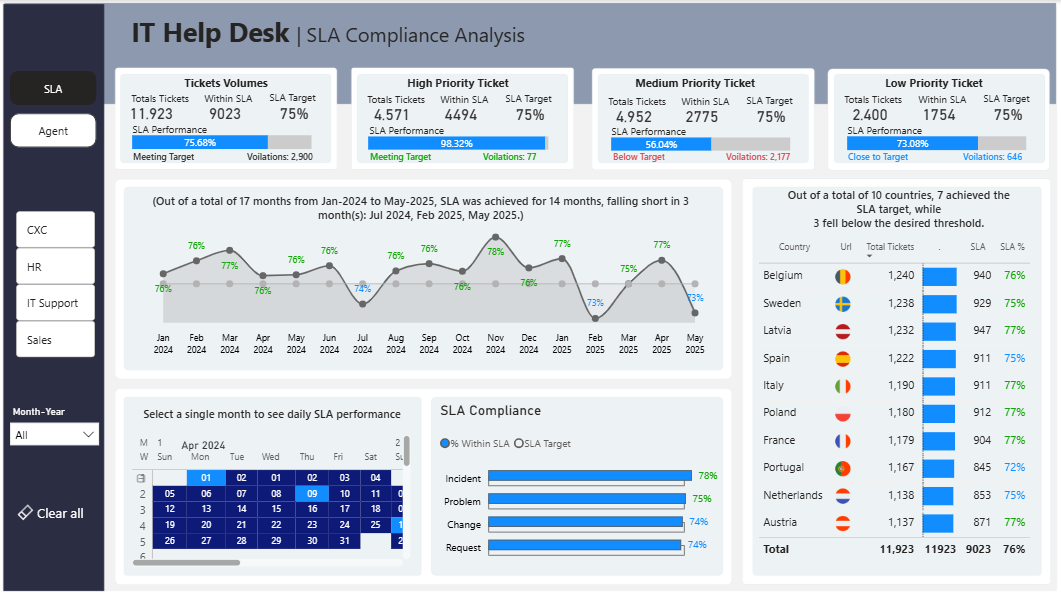

What the dashboard file says about the page in this screenshot:
{"tool":"powerbi","page":{"name":"SLA","canvas":[1280,720],"ordinal":0},"visuals":[{"type":"hundredPercentStackedBarChart","fields":{"Y":["All Measures.% Within SLA","All Measures.% outside SLA"]},"box":[731.6,131.1,225.6,77.5],"z":0},{"type":"hundredPercentStackedBarChart","fields":{"Y":["All Measures.% Within SLA","All Measures.% outside SLA"]},"box":[439.8,129.7,227,77.5],"z":1000},{"type":"hundredPercentStackedBarChart","fields":{"Y":["All Measures.% Within SLA","All Measures.% outside SLA"]},"box":[155.3,127.7,226,80.2],"z":2000},{"type":"advanceCardE03760C5AB684758B56AA29F9E6C257B","fields":{"mainMeasure":["All Measures.Total Tickets"]},"box":[147.3,121.6,72.9,25.7],"z":3000},{"type":"advanceCardE03760C5AB684758B56AA29F9E6C257B","fields":{"mainMeasure":["All Measures.Tickets Within SLA"]},"box":[236.4,121.5,72,26],"z":4000},{"type":"advanceCardE03760C5AB684758B56AA29F9E6C257B","fields":{"mainMeasure":["All Measures.SLA Target"]},"box":[319.3,121.5,72,26],"z":5000},{"type":"textbox","box":[155.5,140.4,121.1,27.5],"z":6000},{"type":"textbox","box":[154.2,103.2,90.8,27.5],"z":7000},{"type":"textbox","box":[242.2,103.2,78.5,28.9],"z":8000},{"type":"textbox","box":[320.7,102.5,74.3,28.9],"z":9000},{"type":"textbox","box":[217.5,85.3,125.2,27.5],"z":10000},{"type":"advanceCardE03760C5AB684758B56AA29F9E6C257B","fields":{"mainMeasure":["All Measures.Total Tickets"]},"box":[436.9,122.6,72,26],"z":11000},{"type":"advanceCardE03760C5AB684758B56AA29F9E6C257B","fields":{"mainMeasure":["All Measures.Tickets Within SLA"]},"box":[519.9,122.6,72,26],"z":12000},{"type":"advanceCardE03760C5AB684758B56AA29F9E6C257B","fields":{"mainMeasure":["All Measures.SLA Target"]},"box":[602.8,122.6,72,26],"z":13000},{"type":"textbox","box":[440.8,142.3,120.8,27.6],"z":14000},{"type":"textbox","box":[437.7,104.6,88.1,27.5],"z":15000},{"type":"textbox","box":[525.7,104.3,78.5,28.9],"z":16000},{"type":"textbox","box":[604.2,103.5,74.3,28.9],"z":17000},{"type":"textbox","box":[485.8,85.3,147.3,27.5],"z":18000},{"type":"advanceCardE03760C5AB684758B56AA29F9E6C257B","fields":{"mainMeasure":["All Measures.Total Tickets"]},"box":[727.9,125.1,72,26],"z":19000},{"type":"advanceCardE03760C5AB684758B56AA29F9E6C257B","fields":{"mainMeasure":["All Measures.Tickets Within SLA"]},"box":[810.8,125.1,72,26],"z":20000},{"type":"advanceCardE03760C5AB684758B56AA29F9E6C257B","fields":{"mainMeasure":["All Measures.SLA Target"]},"box":[893.8,125.1,72,26],"z":21000},{"type":"textbox","box":[732.3,143.2,120.8,26.7],"z":22000},{"type":"textbox","box":[728.1,107.4,88.1,27.5],"z":23000},{"type":"textbox","box":[816.7,106.9,78.5,28.9],"z":24000},{"type":"textbox","box":[895.1,106.1,74.3,28.9],"z":25000},{"type":"textbox","box":[761.1,85.3,167.9,27.5],"z":26000},{"type":"cardVisual","fields":{"Data":["All Measures.Voilations"]},"box":[846.5,162.4,145.9,48.2],"z":27000},{"type":"advanceCardE03760C5AB684758B56AA29F9E6C257B","fields":{"mainMeasure":["All Measures.Total Tickets"]},"box":[1012.3,122.5,72,26],"z":28000},{"type":"hundredPercentStackedBarChart","fields":{"Y":["All Measures.% Within SLA","All Measures.% outside SLA"]},"box":[1016.4,128.3,225.6,80.4],"z":29000},{"type":"advanceCardE03760C5AB684758B56AA29F9E6C257B","fields":{"mainMeasure":["All Measures.Tickets Within SLA"]},"box":[1095.2,122.5,72,26],"z":30000},{"type":"advanceCardE03760C5AB684758B56AA29F9E6C257B","fields":{"mainMeasure":["All Measures.SLA Target"]},"box":[1178.2,122.5,72,26],"z":31000},{"type":"textbox","box":[1015.7,141.8,121.1,27.5],"z":32000},{"type":"textbox","box":[1013,104.6,88.1,27.5],"z":33000},{"type":"textbox","box":[1101.1,104.3,78.5,28.9],"z":34000},{"type":"textbox","box":[1179.5,103.5,74.3,28.9],"z":35000},{"type":"textbox","box":[1062.5,85.3,154.2,27.5],"z":36000},{"type":"tableEx","fields":{"Values":["Country.Country ","Country.Url","All Measures.Total Tickets","All Measures.Total Tickets2","All Measures.Tickets Within SLA","All Measures.% Within SLA"]},"box":[909.1,279.5,340.7,410.6],"z":37000},{"type":"cardVisual","fields":{"Data":["All Measures.Target Status"]},"box":[710.2,159.7,136.3,53.7],"z":38000},{"type":"cardVisual","fields":{"Data":["All Measures.Voilations"]},"box":[553.7,162.2,145.8,48.3],"z":39000},{"type":"cardVisual","fields":{"Data":["All Measures.Target Status"]},"box":[417.5,159.6,136.3,53.5],"z":40000},{"type":"cardVisual","fields":{"Data":["All Measures.Voilations"]},"box":[269.1,163.1,145.9,48.2],"z":41000},{"type":"cardVisual","fields":{"Data":["All Measures.Target Status"]},"box":[132.9,160.4,136.3,53.7],"z":42000},{"type":"cardVisual","fields":{"Data":["All Measures.Voilations"]},"box":[1131.4,162.4,145.9,48.2],"z":43000},{"type":"cardVisual","fields":{"Data":["All Measures.Target Status"]},"box":[992.8,159.6,147.5,53.5],"z":44000},{"type":"lineChart","fields":{"Category":["Calendar.Month-Year"],"Y":["All Measures.% Within SLA","All Measures.SLA Target"]},"box":[158.3,267,703.3,169.3],"z":45000},{"type":"advancedSlicerVisual","fields":{"Values":["IT Helpdesk.Department"]},"box":[15.1,249.1,106,187.2],"z":46000},{"type":"clusteredBarChart","title":"SLA Compliance","fields":{"Category":["IT Helpdesk.Type"],"Y":["All Measures.% Within SLA","All Measures.SLA Target"]},"box":[525.8,484.5,344.1,202.3],"z":47000},{"type":"slicer","fields":{"Values":["Calendar.Month-Year"]},"box":[8.3,484.5,117,59.2],"z":48000},{"type":"pivotTable","fields":{"Columns":["Calendar.Month Group","Calendar.Day of Week"],"Rows":["Calendar.Quarter","Calendar.Week of Month"],"Values":["Min(Calendar.Day)"]},"box":[155.5,518.9,345.5,167.9],"z":49000},{"type":"advanceCardE03760C5AB684758B56AA29F9E6C257B","fields":{"mainMeasure":["Min(Calendar.Month-Year)"]},"box":[209.2,521.6,99.1,30.3],"z":50000},{"type":"actionButton","box":[17.9,602.8,111.5,27.5],"z":51000},{"type":"pageNavigator","box":[13.8,85.3,104.6,92.2],"z":52000},{"type":"cardVisual","fields":{"Data":["All Measures.Country SLA Achievement Summary"]},"box":[926.3,188.6,315.2,121.1],"z":53000},{"type":"cardVisual","fields":{"Data":["All Measures.SLA Achievement Summary"]},"box":[147.3,183.1,722.6,132.1],"z":54000},{"type":"textbox","box":[154.2,11,656.5,57.8],"z":55000},{"type":"cardVisual","fields":{"Data":["All Measures.Monthly SLA Achievement Summary"]},"box":[158.3,470.7,342.7,50.9],"z":55001}]}

Visuals, with their boxes on the page's 1280x720 design canvas (x1, y1, x2, y2). These are canvas units, not pixel positions in the 1061x595 screenshot, which may show the page scaled, cropped or inside an application window:
hundredPercentStackedBarChart - All Measures.% Within SLA x All Measures.% outside SLA: select_region(732, 131, 957, 209)
hundredPercentStackedBarChart - All Measures.% Within SLA x All Measures.% outside SLA: select_region(440, 130, 667, 207)
hundredPercentStackedBarChart - All Measures.% Within SLA x All Measures.% outside SLA: select_region(155, 128, 381, 208)
advanceCardE03760C5AB684758B56AA29F9E6C257B - All Measures.Total Tickets: select_region(147, 122, 220, 147)
advanceCardE03760C5AB684758B56AA29F9E6C257B - All Measures.Tickets Within SLA: select_region(236, 122, 308, 148)
advanceCardE03760C5AB684758B56AA29F9E6C257B - All Measures.SLA Target: select_region(319, 122, 391, 148)
textbox: select_region(156, 140, 277, 168)
textbox: select_region(154, 103, 245, 131)
textbox: select_region(242, 103, 321, 132)
textbox: select_region(321, 102, 395, 131)
textbox: select_region(218, 85, 343, 113)
advanceCardE03760C5AB684758B56AA29F9E6C257B - All Measures.Total Tickets: select_region(437, 123, 509, 149)
advanceCardE03760C5AB684758B56AA29F9E6C257B - All Measures.Tickets Within SLA: select_region(520, 123, 592, 149)
advanceCardE03760C5AB684758B56AA29F9E6C257B - All Measures.SLA Target: select_region(603, 123, 675, 149)
textbox: select_region(441, 142, 562, 170)
textbox: select_region(438, 105, 526, 132)
textbox: select_region(526, 104, 604, 133)
textbox: select_region(604, 104, 678, 132)
textbox: select_region(486, 85, 633, 113)
advanceCardE03760C5AB684758B56AA29F9E6C257B - All Measures.Total Tickets: select_region(728, 125, 800, 151)
advanceCardE03760C5AB684758B56AA29F9E6C257B - All Measures.Tickets Within SLA: select_region(811, 125, 883, 151)
advanceCardE03760C5AB684758B56AA29F9E6C257B - All Measures.SLA Target: select_region(894, 125, 966, 151)
textbox: select_region(732, 143, 853, 170)
textbox: select_region(728, 107, 816, 135)
textbox: select_region(817, 107, 895, 136)
textbox: select_region(895, 106, 969, 135)
textbox: select_region(761, 85, 929, 113)
cardVisual - All Measures.Voilations: select_region(846, 162, 992, 211)
advanceCardE03760C5AB684758B56AA29F9E6C257B - All Measures.Total Tickets: select_region(1012, 122, 1084, 148)
hundredPercentStackedBarChart - All Measures.% Within SLA x All Measures.% outside SLA: select_region(1016, 128, 1242, 209)
advanceCardE03760C5AB684758B56AA29F9E6C257B - All Measures.Tickets Within SLA: select_region(1095, 122, 1167, 148)
advanceCardE03760C5AB684758B56AA29F9E6C257B - All Measures.SLA Target: select_region(1178, 122, 1250, 148)
textbox: select_region(1016, 142, 1137, 169)
textbox: select_region(1013, 105, 1101, 132)
textbox: select_region(1101, 104, 1180, 133)
textbox: select_region(1180, 104, 1254, 132)
textbox: select_region(1062, 85, 1217, 113)
tableEx - Country.Country  x Country.Url: select_region(909, 280, 1250, 690)
cardVisual - All Measures.Target Status: select_region(710, 160, 846, 213)
cardVisual - All Measures.Voilations: select_region(554, 162, 700, 210)
cardVisual - All Measures.Target Status: select_region(418, 160, 554, 213)
cardVisual - All Measures.Voilations: select_region(269, 163, 415, 211)
cardVisual - All Measures.Target Status: select_region(133, 160, 269, 214)
cardVisual - All Measures.Voilations: select_region(1131, 162, 1277, 211)
cardVisual - All Measures.Target Status: select_region(993, 160, 1140, 213)
lineChart - Calendar.Month-Year x All Measures.% Within SLA: select_region(158, 267, 862, 436)
advancedSlicerVisual - IT Helpdesk.Department: select_region(15, 249, 121, 436)
"SLA Compliance" clusteredBarChart: select_region(526, 484, 870, 687)
slicer - Calendar.Month-Year: select_region(8, 484, 125, 544)
pivotTable - Calendar.Month Group x Calendar.Day of Week: select_region(156, 519, 501, 687)
advanceCardE03760C5AB684758B56AA29F9E6C257B - Min(Calendar.Month-Year): select_region(209, 522, 308, 552)
actionButton: select_region(18, 603, 129, 630)
pageNavigator: select_region(14, 85, 118, 178)
cardVisual - All Measures.Country SLA Achievement Summary: select_region(926, 189, 1242, 310)
cardVisual - All Measures.SLA Achievement Summary: select_region(147, 183, 870, 315)
textbox: select_region(154, 11, 811, 69)
cardVisual - All Measures.Monthly SLA Achievement Summary: select_region(158, 471, 501, 522)
